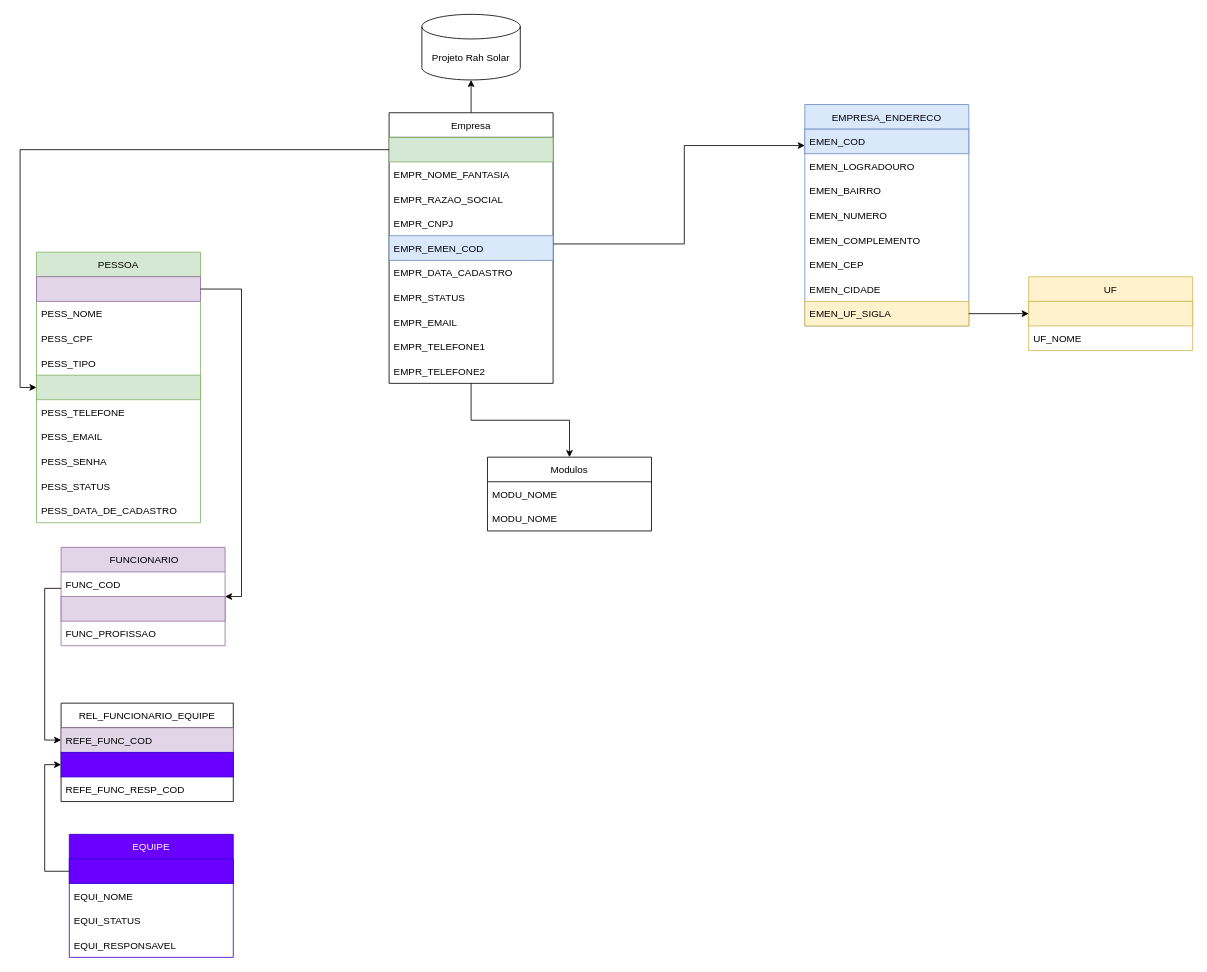
Image size: 1207x972. Some labels were removed from this diagram. Each missing label, with the centre of its shape:
EMPR_COD: (470,149)
EQUI_COD: (150,871)
FUNC_PESS_COD: (142,608)
PESS_COD: (118,288)
PESS_EMPR_COD: (118,387)
REFE_EQUI_COD: (146,764)
UF_SIGLA: (1110,313)
